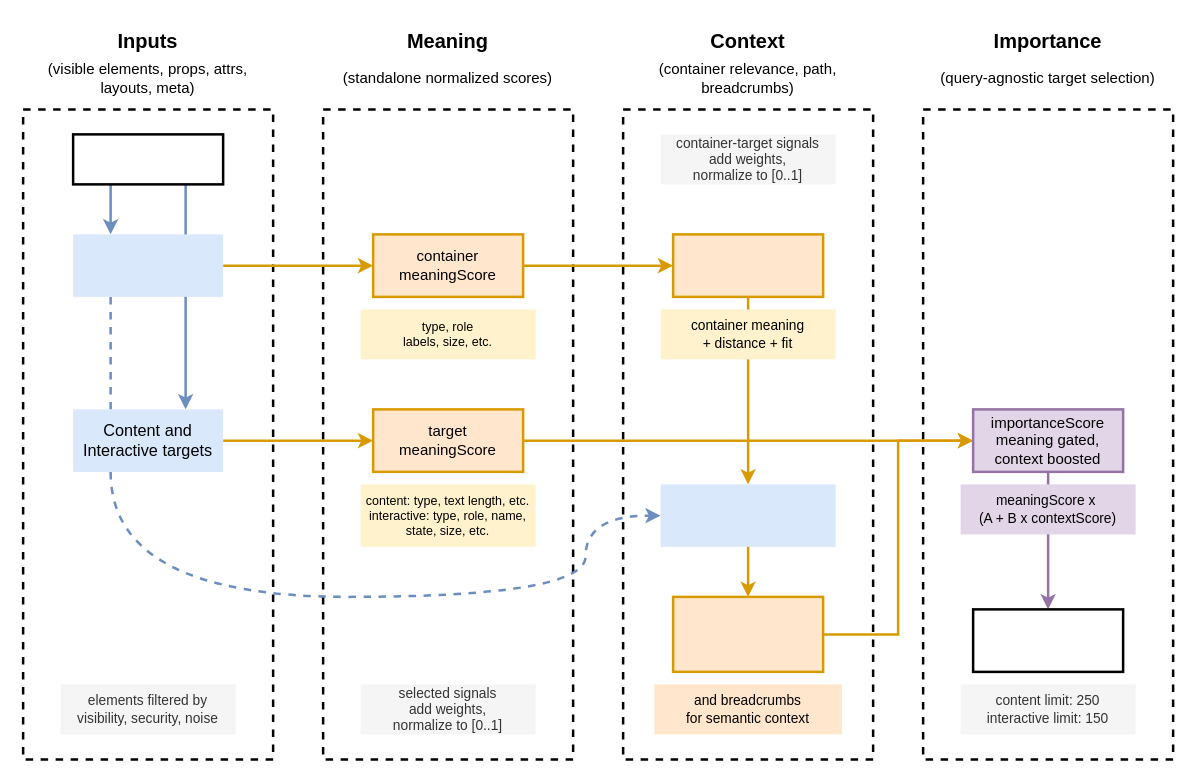
This 1195x781 diagram has some shape labels left out. Here are the shapes that lost their labels. From the top down, the centre of each, then its label:
At pixel 147 158: "DOM elements".
At pixel 147 265: "Container elements".
At pixel 747 265: "relevanceScore per container-target pair".
At pixel 747 515: "Target containers path nearest ancestor to root".
At pixel 747 633: "contextScore top 3 relevanceScores softened noisy-OR".
At pixel 1047 640: "topElements() sort DESC apply target limit".
